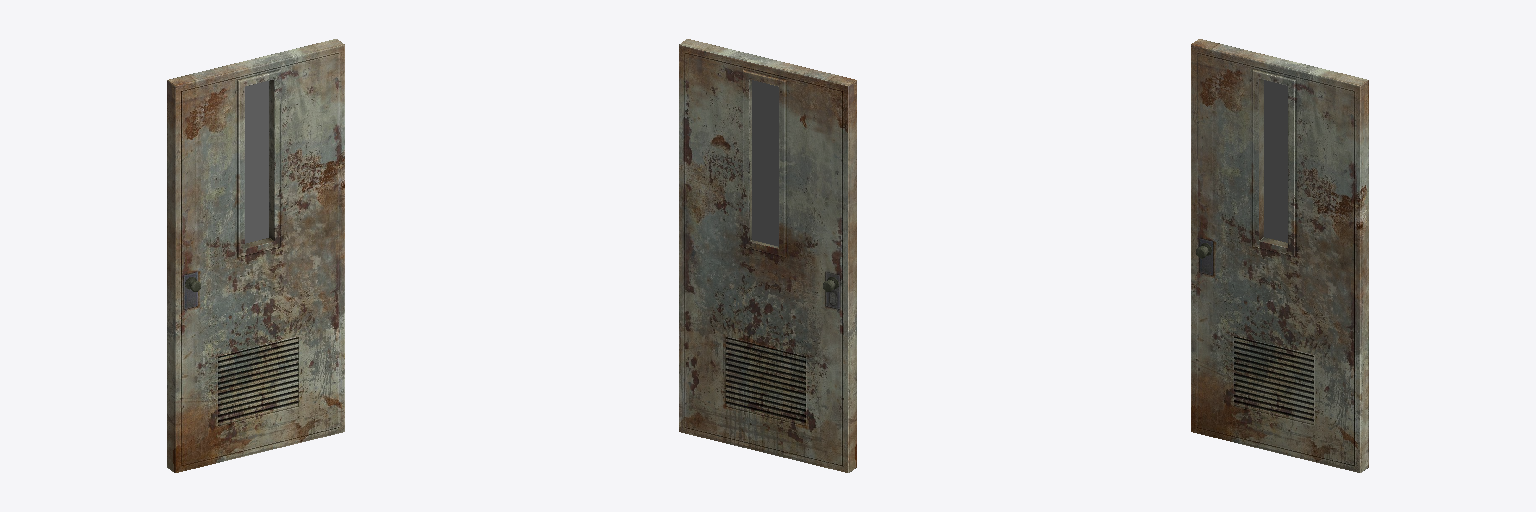
3 views of the same model, side by side, from view 1: azimuth 30°, elevation 25°; view 2: azimuth 150°, elevation 25°; view 3: azimuth 330°, elevation 25° (orthographic).
Visible parts, largest first — view 1: usa4; view 2: usa4; view 3: usa4.
Part boxes in pixels (x1,y1,x2,y2): usa4: (167,39,344,472); usa4: (679,39,856,472); usa4: (1191,39,1368,472).
Size of the model in its own units: 1.12 by 2.44 by 0.233.
Materials: 3 (1 with a texture image).